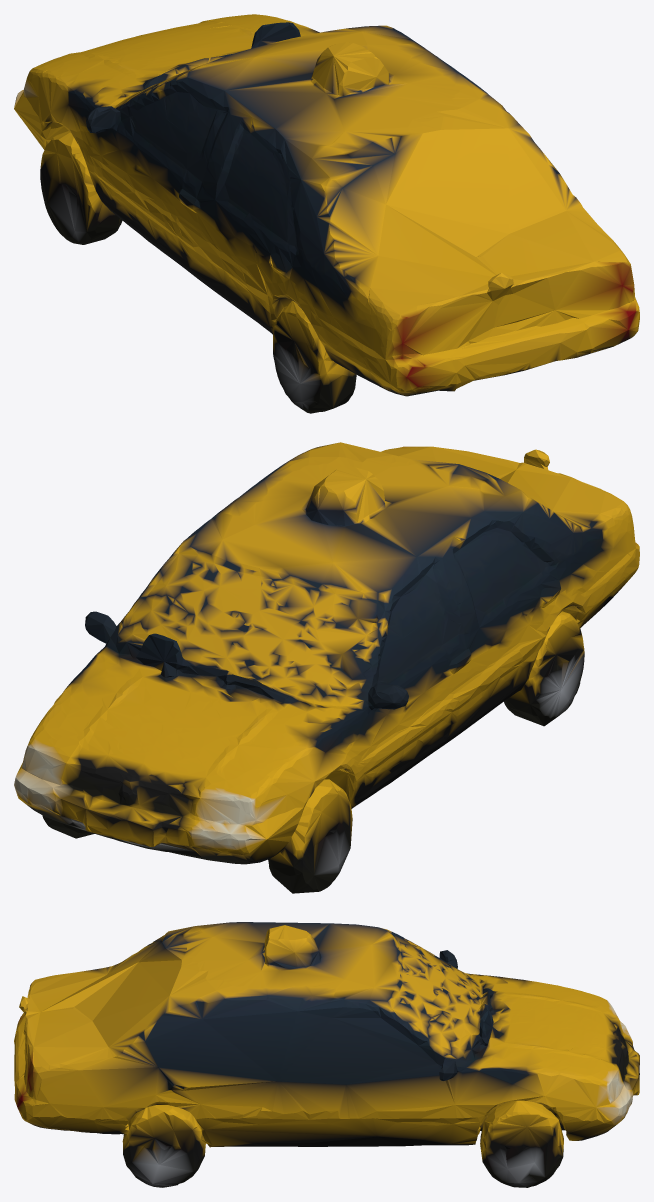
File: taxi_lod1.glb
3 views of the same model, one above another, from view 1: azimuth 30°, elevation 25°; view 2: azimuth 150°, elevation 25°; view 3: azimuth 270°, elevation 25° (orthographic). The views are drawn at different scales.
Visible parts, largest first — view 1: world; view 2: world; view 3: world.
Part boxes in pixels (x1,y1,x2,y2): world: (14, 14, 639, 413); world: (14, 442, 639, 893); world: (14, 922, 639, 1187).
Size of the model in its own units: 91.6 by 75.15 by 200.
